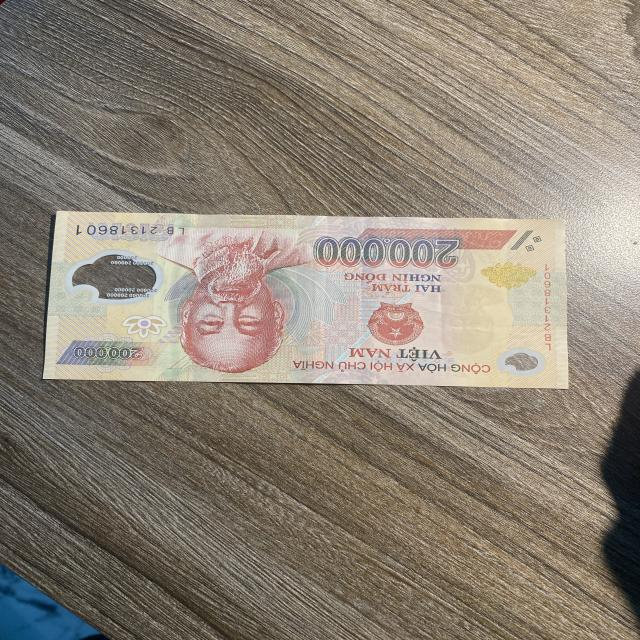200 000 VND: (41, 209, 570, 392)
